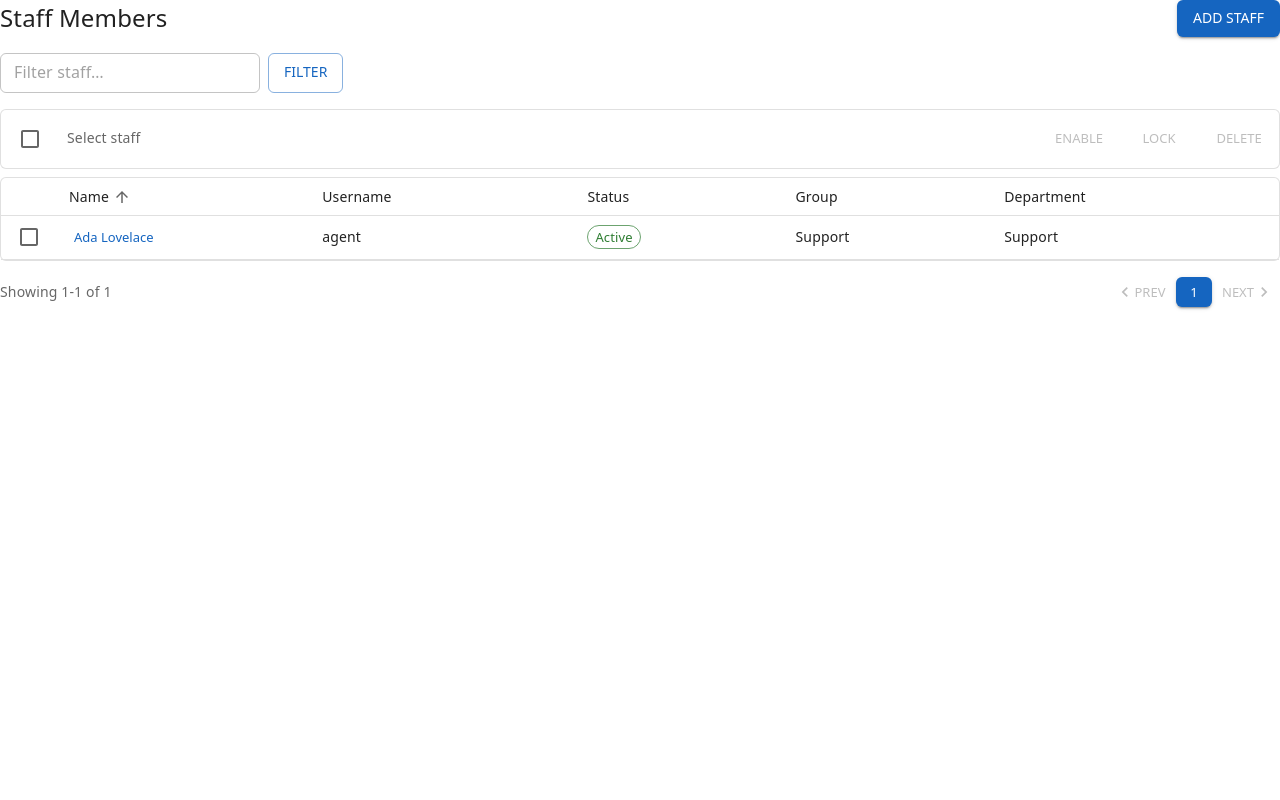
Test case: StaffListPage (TS-M4-B2) › shows the member's current teams and an Add-to-team control in the edit dialog (BS-030-14)
Click the button with test id "staff-edit-1" at (114, 237), box [69,222,159,253]
(page scrolled)
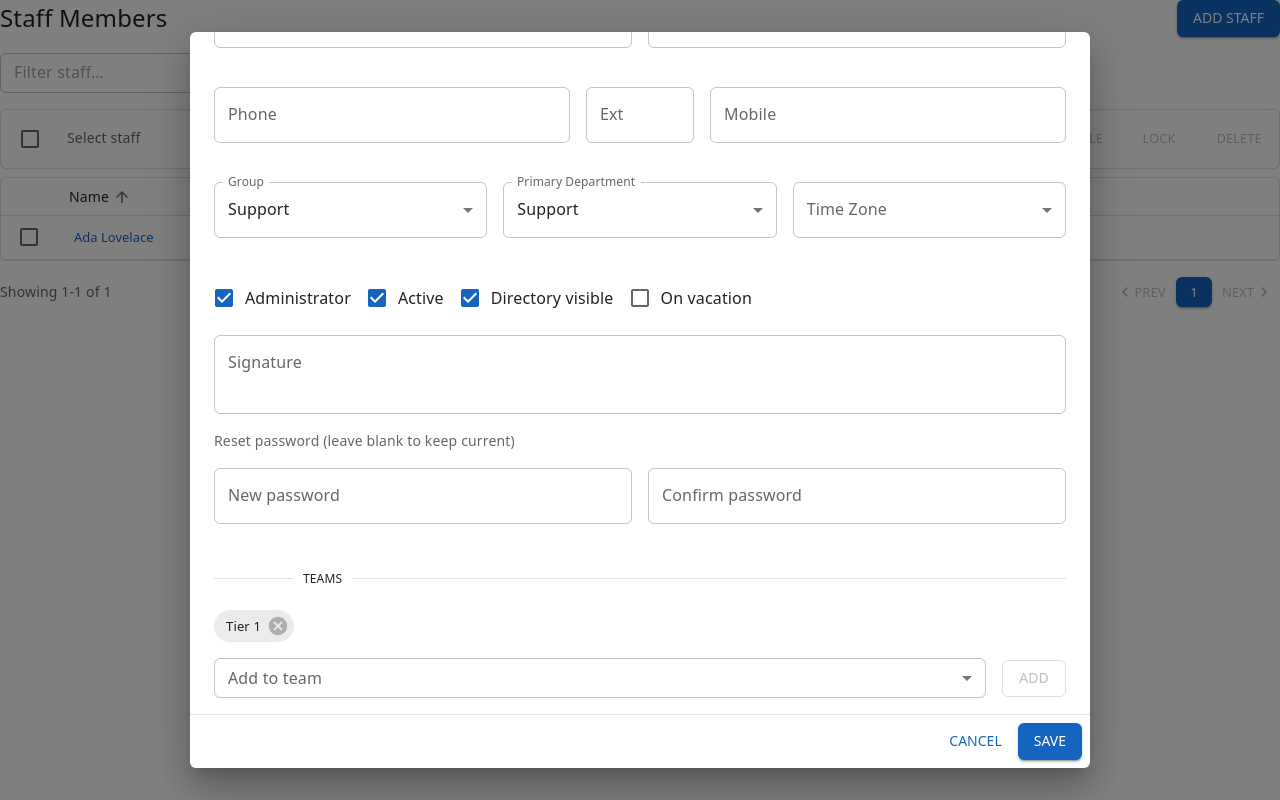
Check: the button with test id "staff-team-chip-10" is shown, box [214,610,294,642]
Check: the element with test id "staff-add-team-select" is shown, box [214,658,986,698]
Check: the button with test id "staff-add-team-btn" is shown, box [1002,660,1066,697]
